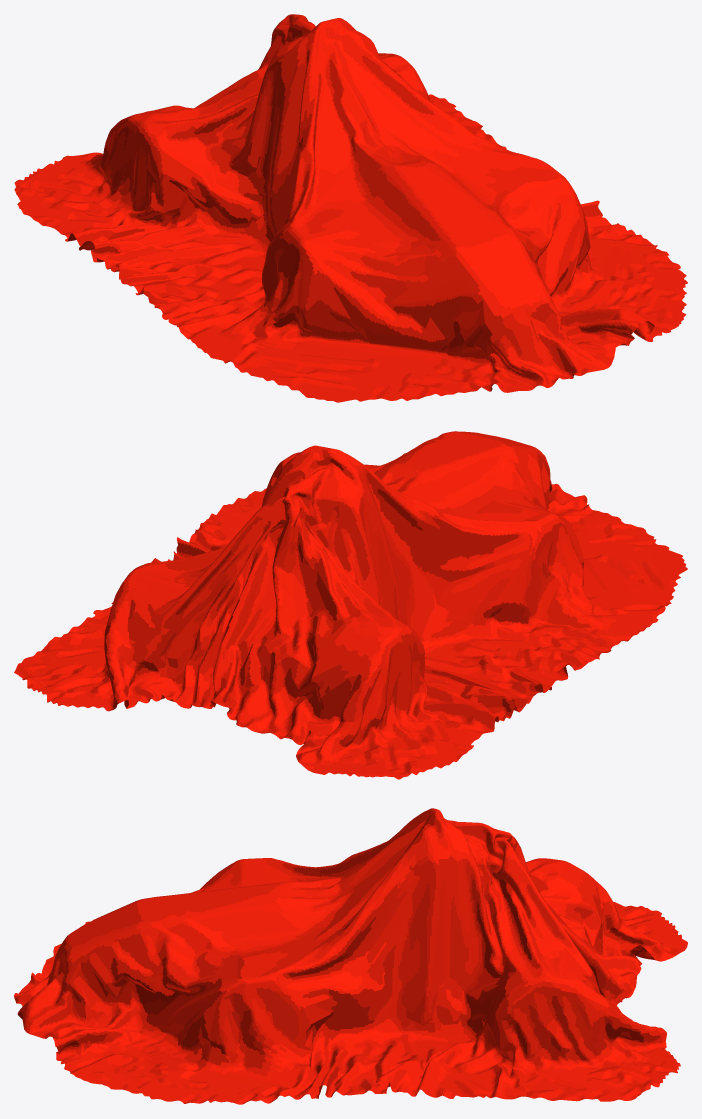
File: tapado.glb
The picture shows the model from 3 angles, top to bottom: view 1: azimuth 30°, elevation 25°; view 2: azimuth 150°, elevation 25°; view 3: azimuth 270°, elevation 25°; orthographic projection. The views are drawn at different scales.
Parts seen in each view (by area): view 1: Plane; view 2: Plane; view 3: Plane.
Part boxes in pixels (box(x1,y1,x2,y2)): Plane: box(14, 14, 687, 402); Plane: box(14, 431, 687, 779); Plane: box(14, 808, 687, 1104).
Size of the model in its own units: 2.47 by 1.07 by 3.4.
